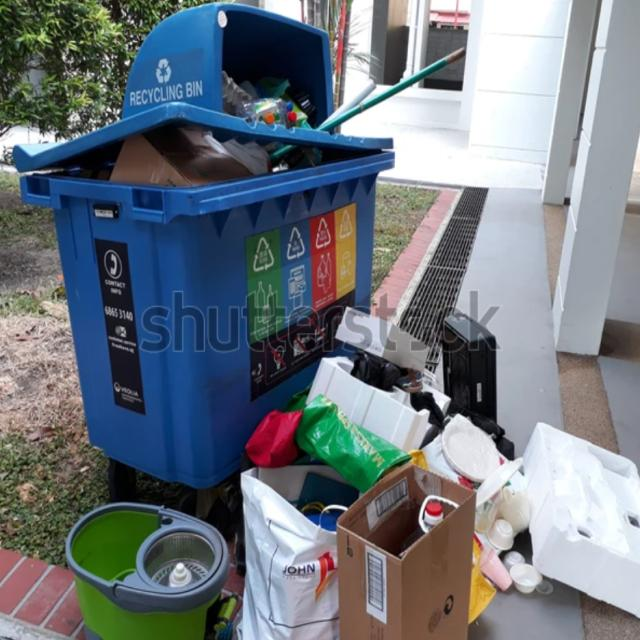bin_full: (15, 6, 387, 488), (468, 538, 496, 625)
bulk_waste: (442, 416, 639, 634), (62, 501, 255, 639), (334, 458, 474, 640), (90, 126, 264, 187), (335, 308, 435, 386), (244, 408, 304, 469)
